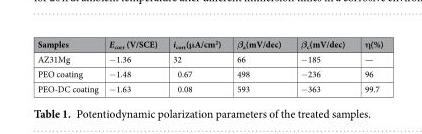table: (36, 37, 382, 94)
table column: (36, 37, 103, 94), (164, 37, 228, 94), (290, 37, 354, 94), (228, 37, 290, 94), (103, 37, 164, 94), (354, 37, 382, 94)
table column header: (36, 37, 382, 51)
table row: (36, 51, 382, 66), (36, 37, 382, 51), (36, 66, 382, 80), (36, 80, 382, 94)
